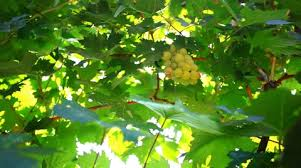grapes: (157, 38, 202, 86)
